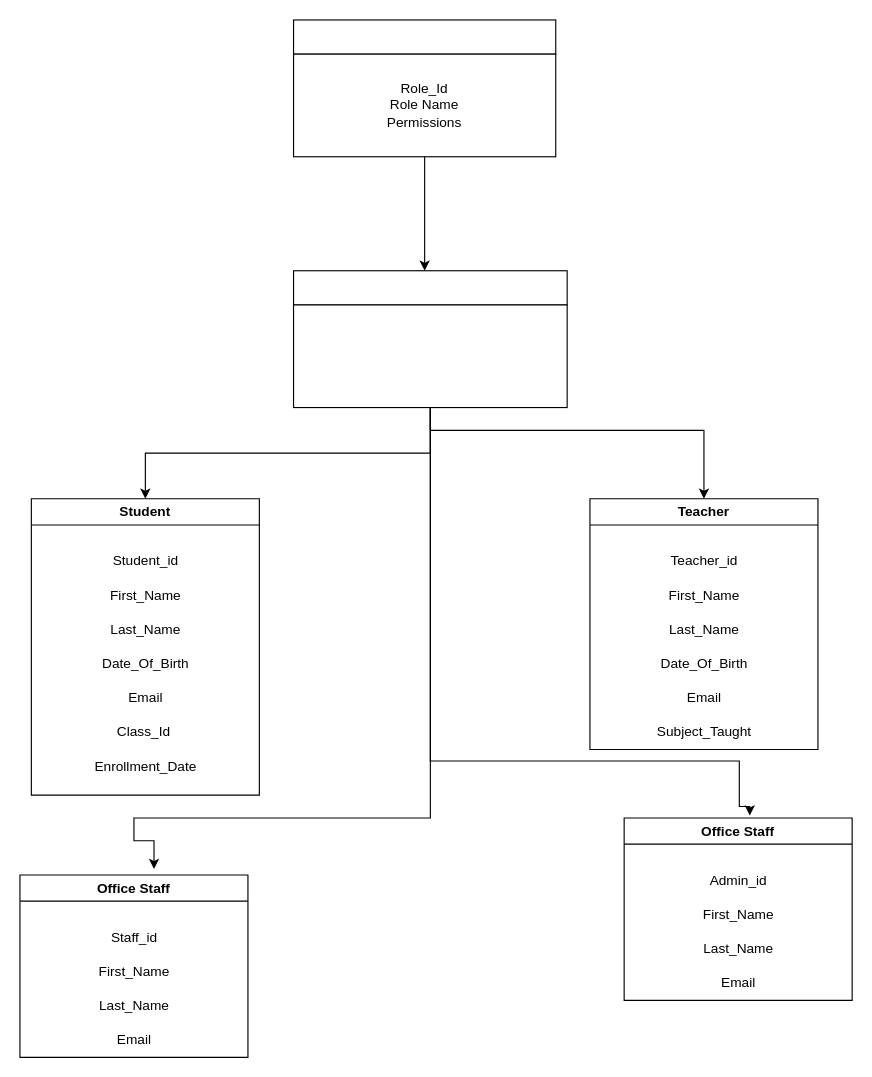
Image size: 872x1077. Some labels were removed from this diagram. The shapes that lost their labels are listed below. From the top down, each one's box as (x1, y1, x2, y2) in pixels, then its label:
(292, 19, 556, 54): Role
(292, 270, 567, 305): User
(292, 304, 567, 408): User_Id Username Password Role_Id
